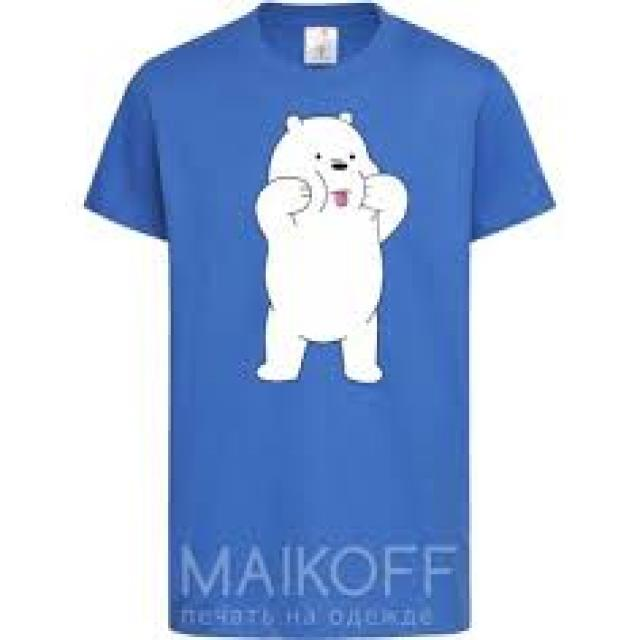Shirt: (70, 9, 570, 640)
